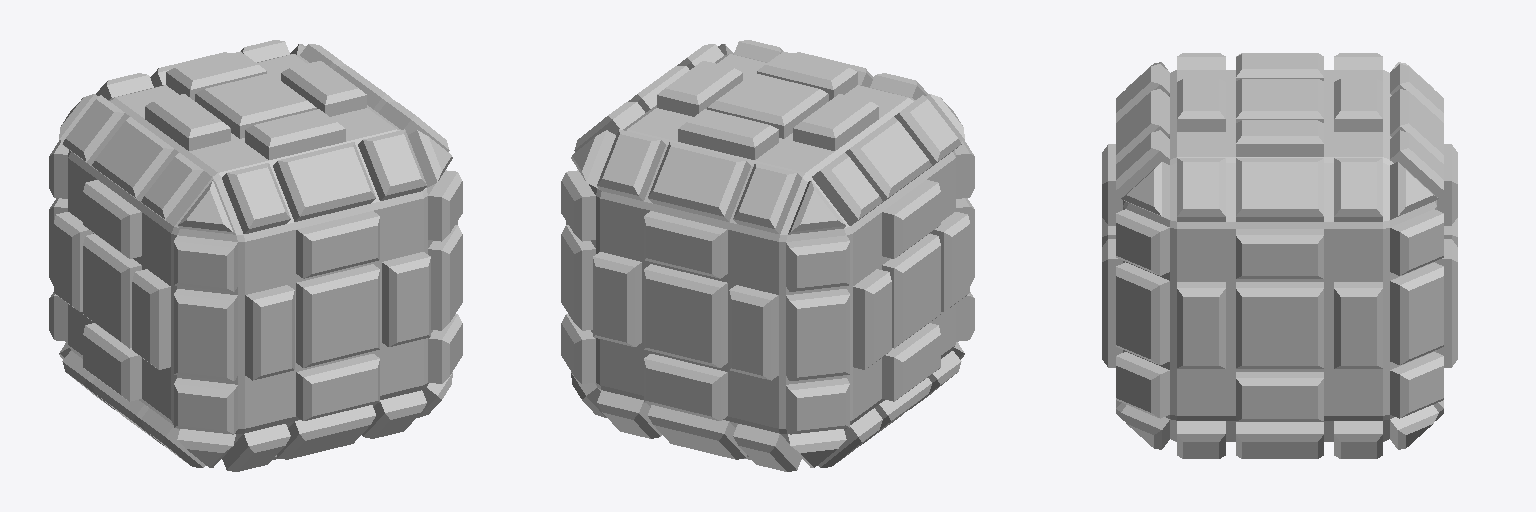
Rendered from Simple box.OBJ.
3 views of the same model, side by side, from view 1: azimuth 30°, elevation 25°; view 2: azimuth 150°, elevation 25°; view 3: azimuth 270°, elevation 25° (orthographic).
Parts seen in each view (by area): view 1: Group36385, Group40482; view 2: Group36385, Group40482; view 3: Group36385, Group40482.
Boxes of the visible parts, <box> form: Group36385: <box>49,40,462,471</box>; Group40482: <box>54,42,457,469</box>; Group36385: <box>561,40,974,471</box>; Group40482: <box>566,42,969,469</box>; Group36385: <box>1102,53,1457,458</box>; Group40482: <box>1108,57,1451,449</box>.
Size of the model in its own units: 0.4522 by 0.4522 by 0.4522.